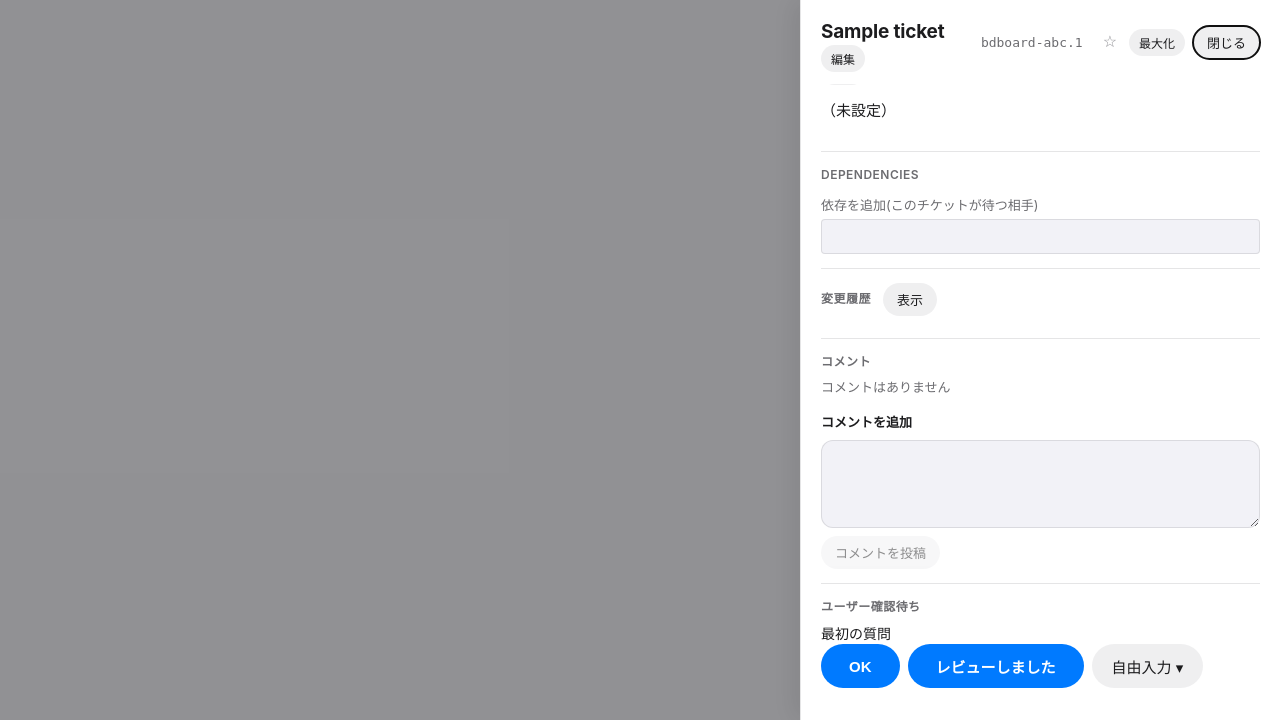
Test: TicketDetailPanel pending decisions › clears the send failure message when the pending decision is replaced
(page scrolled)
Click the button "自由入力 ▾": coordinates (1147, 666) [1092,644,1203,688]
(page scrolled)
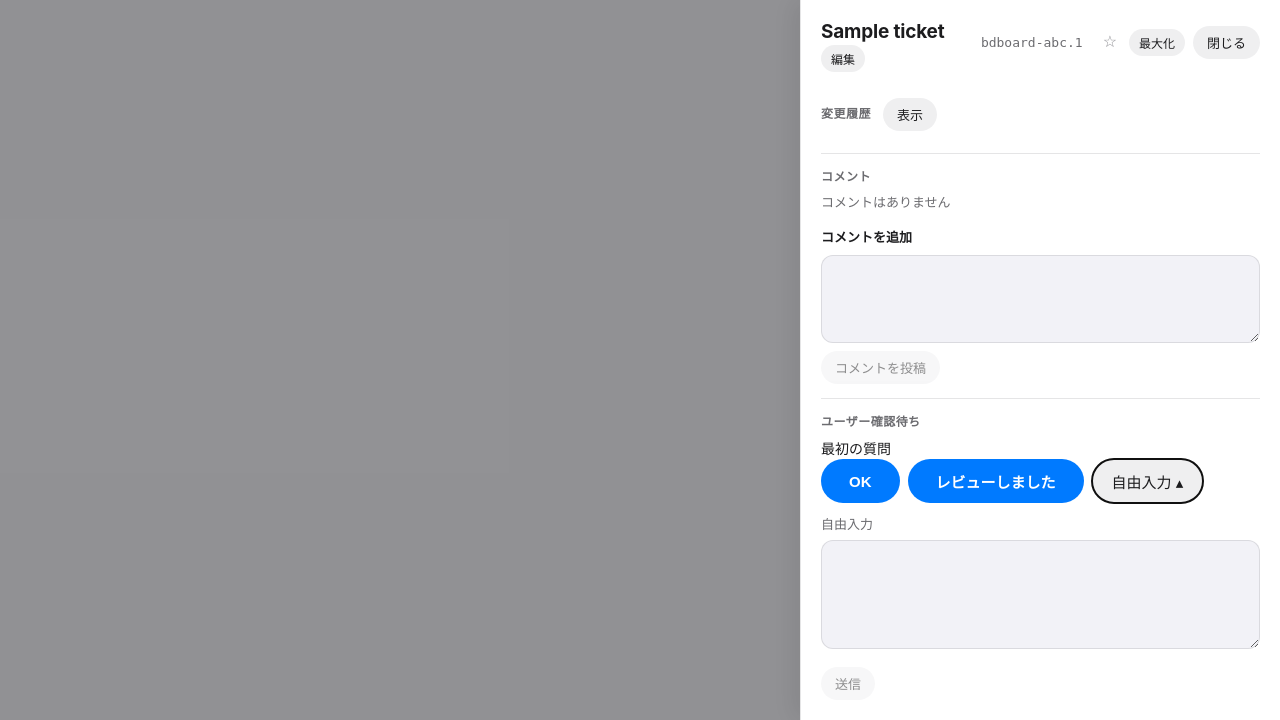
In the text box labelled "自由入力": coordinates (1040, 595) [821,540,1260,649], type "最初の回答"
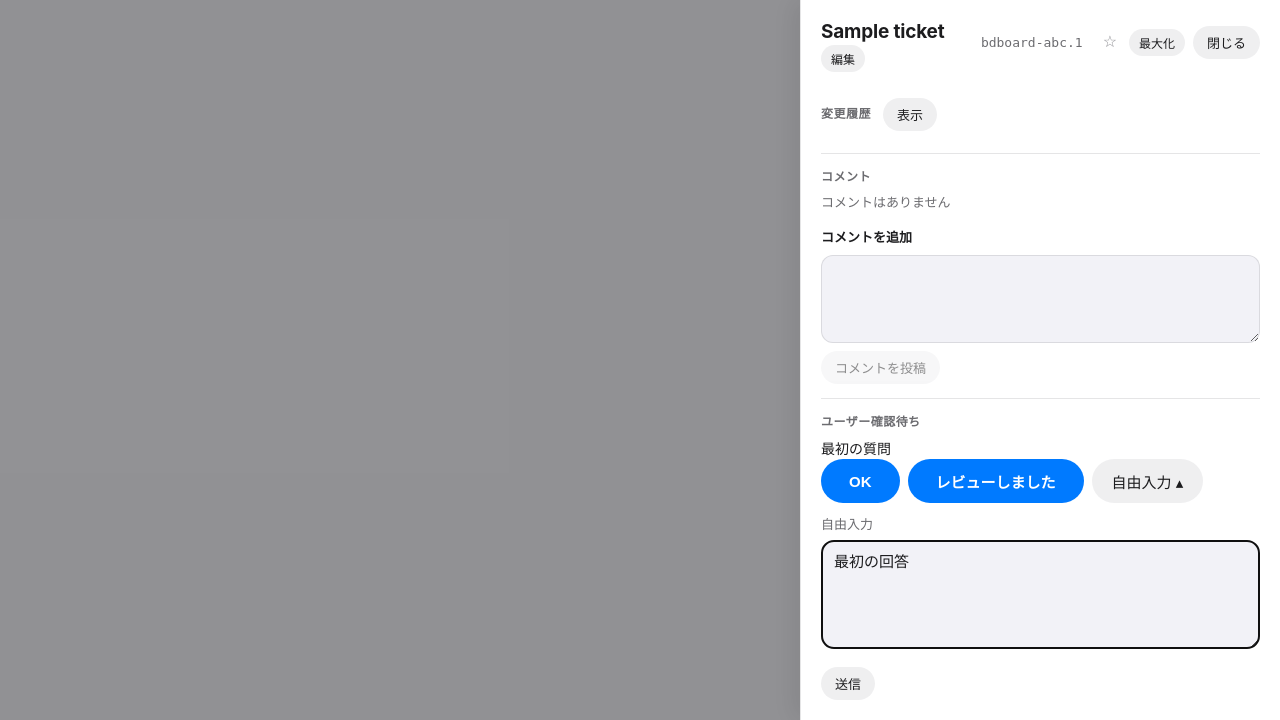
Click the button "送信": coordinates (848, 684) [821,667,875,700]
(page scrolled)
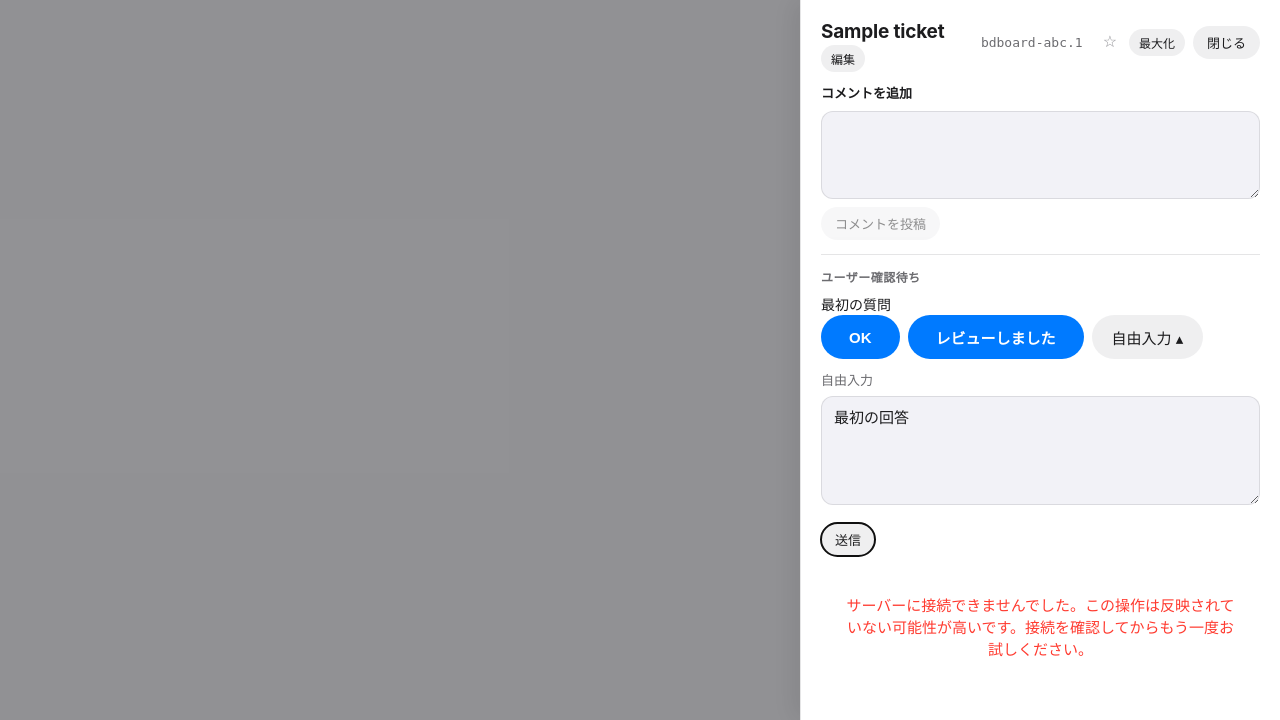
Now the text "サーバーに接続できませんでした。この操作は反映されていない可能性が高いです。接続を確認してからもう一度お試しください。" is shown, box [846,596,1235,659]
